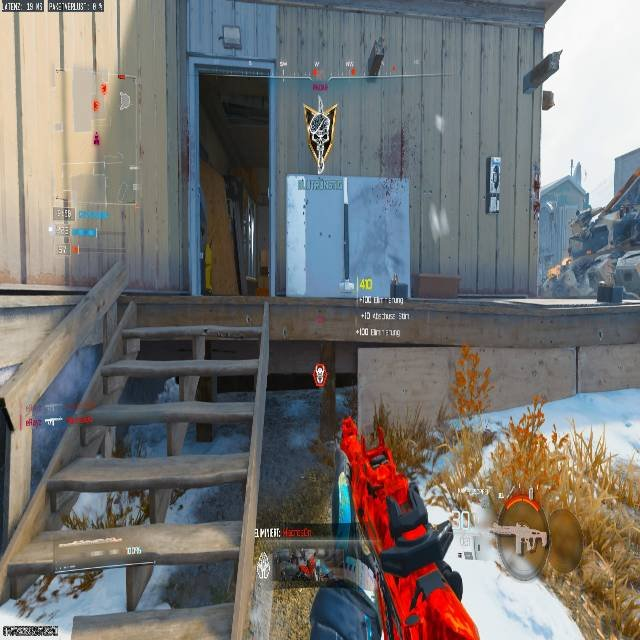head: (339, 416, 358, 446)
player: (540, 189, 639, 304), (304, 104, 334, 169)
